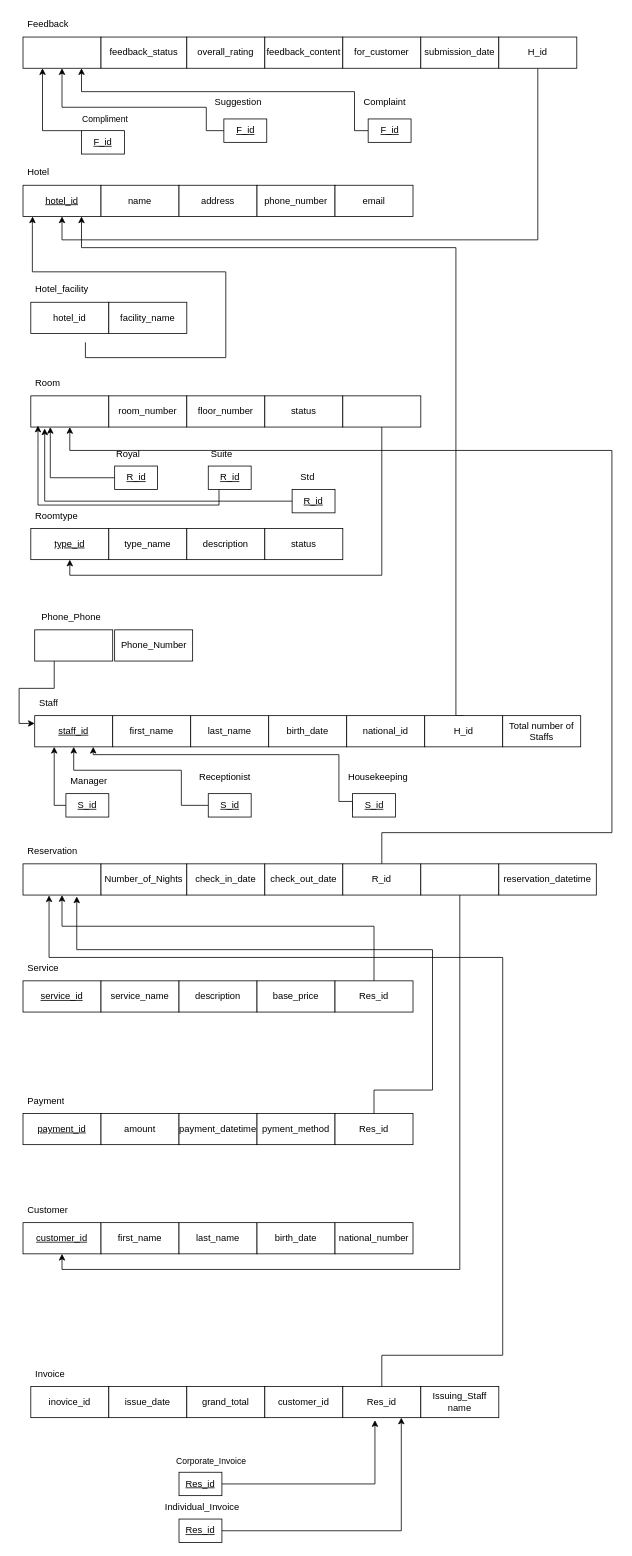
The diagram is 632 pixels wide and 1556 high, and some of its shapes have lost their labels. The centre of each missing label's shape, as x and y in pixels:
"C_id" goes at point (459, 879).
"feedback_id" goes at point (61, 52).
"Person_id" goes at point (73, 645).
"reservation_id" goes at point (61, 879).
"room_id" goes at point (69, 411).
"room_type_id" goes at point (381, 411).
